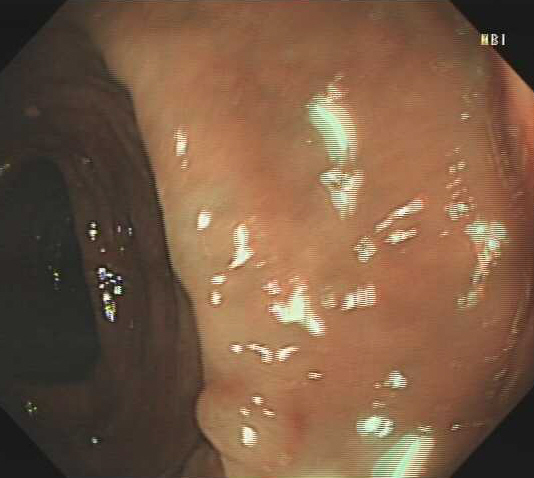adenoma: (193, 380, 300, 467)
